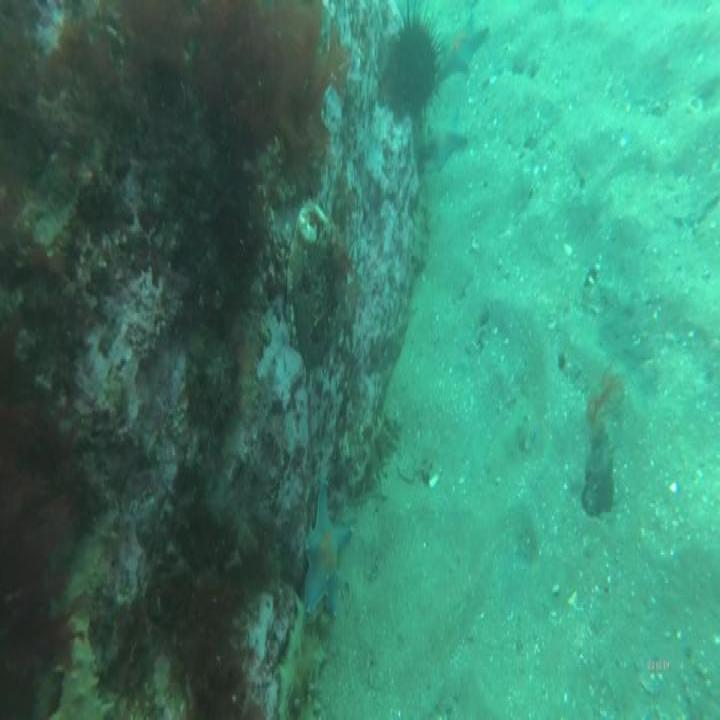echinus: (382, 2, 444, 126)
holothurian: (277, 601, 323, 715), (346, 423, 405, 500), (409, 187, 432, 276)
starfish: (306, 486, 354, 630), (443, 7, 490, 87)
